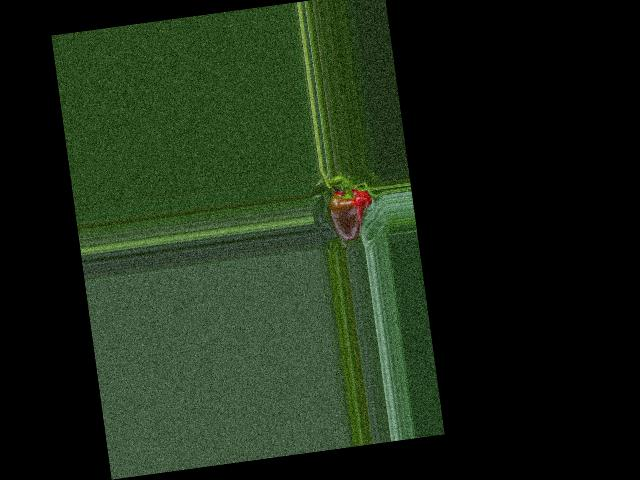bell_pepper: (319, 179, 379, 247)
